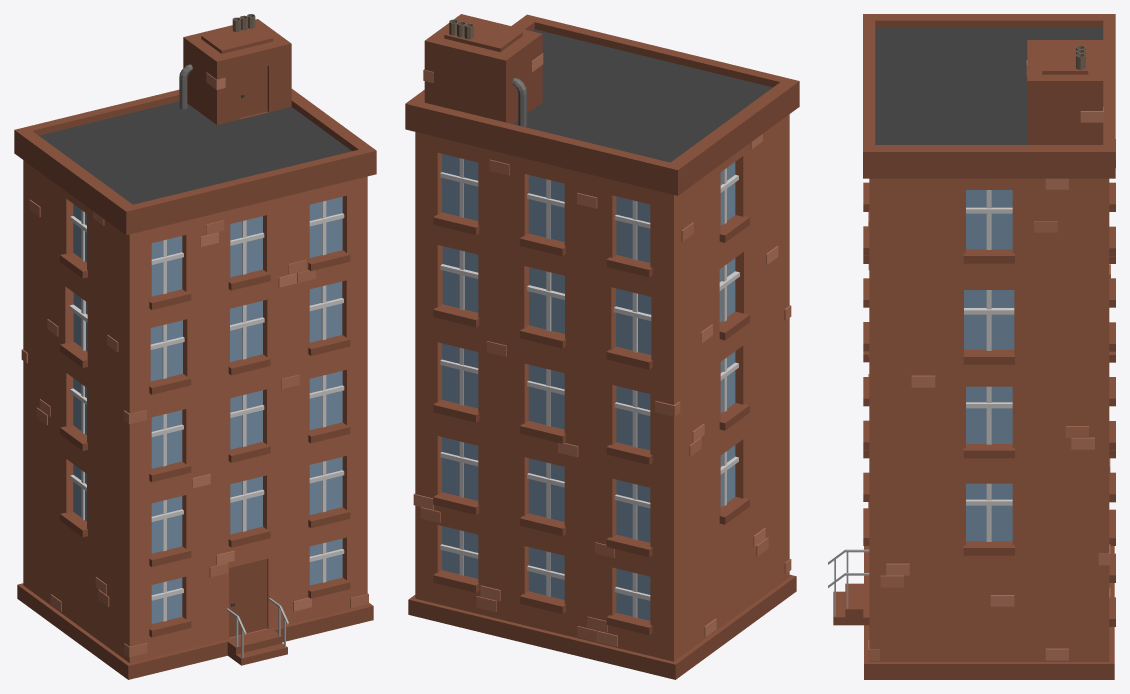
File: Multistory_06.glb
3 renders of one model, left to right at view 1: azimuth 30°, elevation 25°; view 2: azimuth 150°, elevation 25°; view 3: azimuth 270°, elevation 25°, orthographic. The views are drawn at different scales.
Parts seen in each view (by area): view 1: House_06; view 2: House_06; view 3: House_06.
Boxes of the visible parts, x1,y1,x2,y2 form: House_06: (14, 14, 376, 679); House_06: (405, 14, 799, 679); House_06: (828, 14, 1115, 679).
Size of the model in its own units: 7.14 by 14.74 by 6.3.
Materials: 1 (1 with a texture image).
